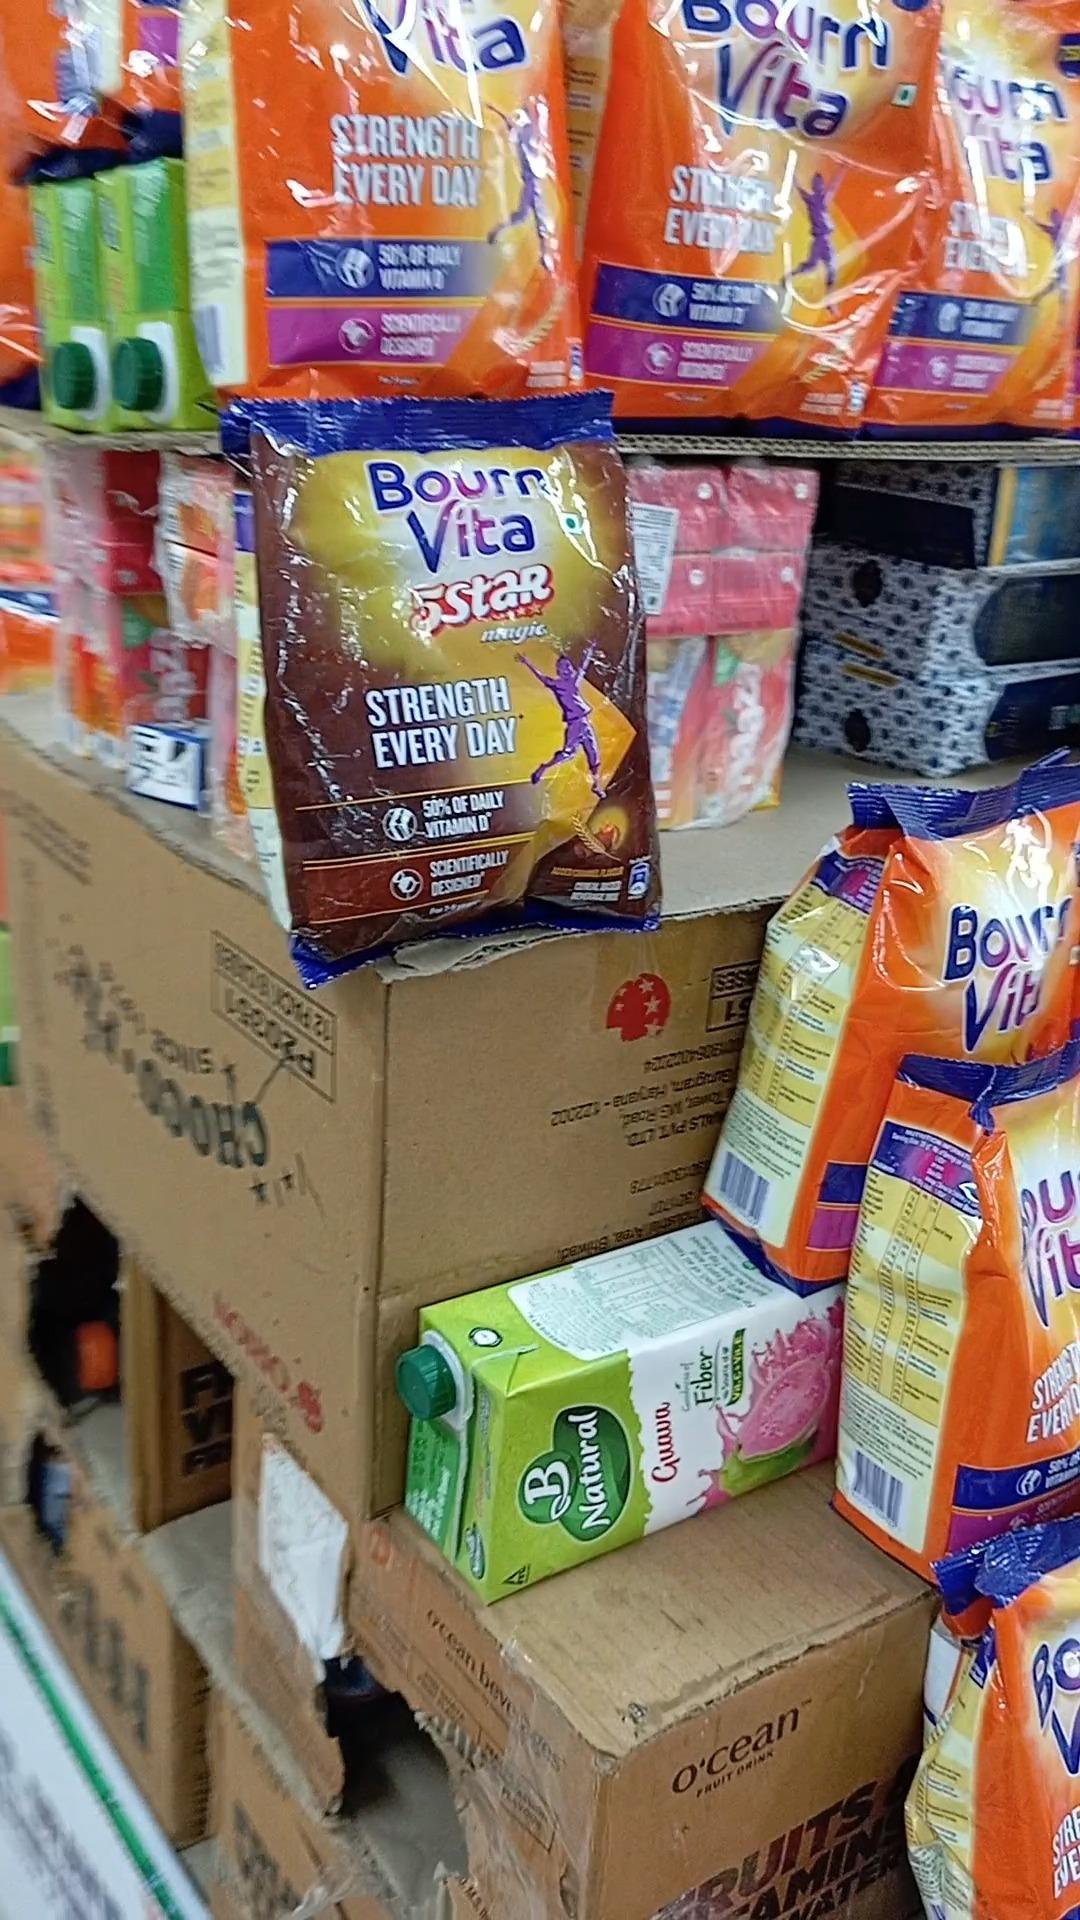BOURN_VITA_FIVE_STAR_MAGIC_500_G_POUCH: (269, 404, 661, 936)
